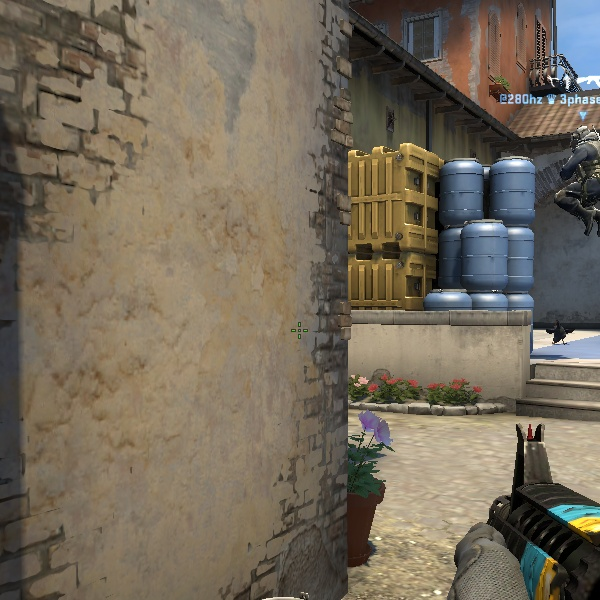ct_body: (549, 122, 600, 239)
